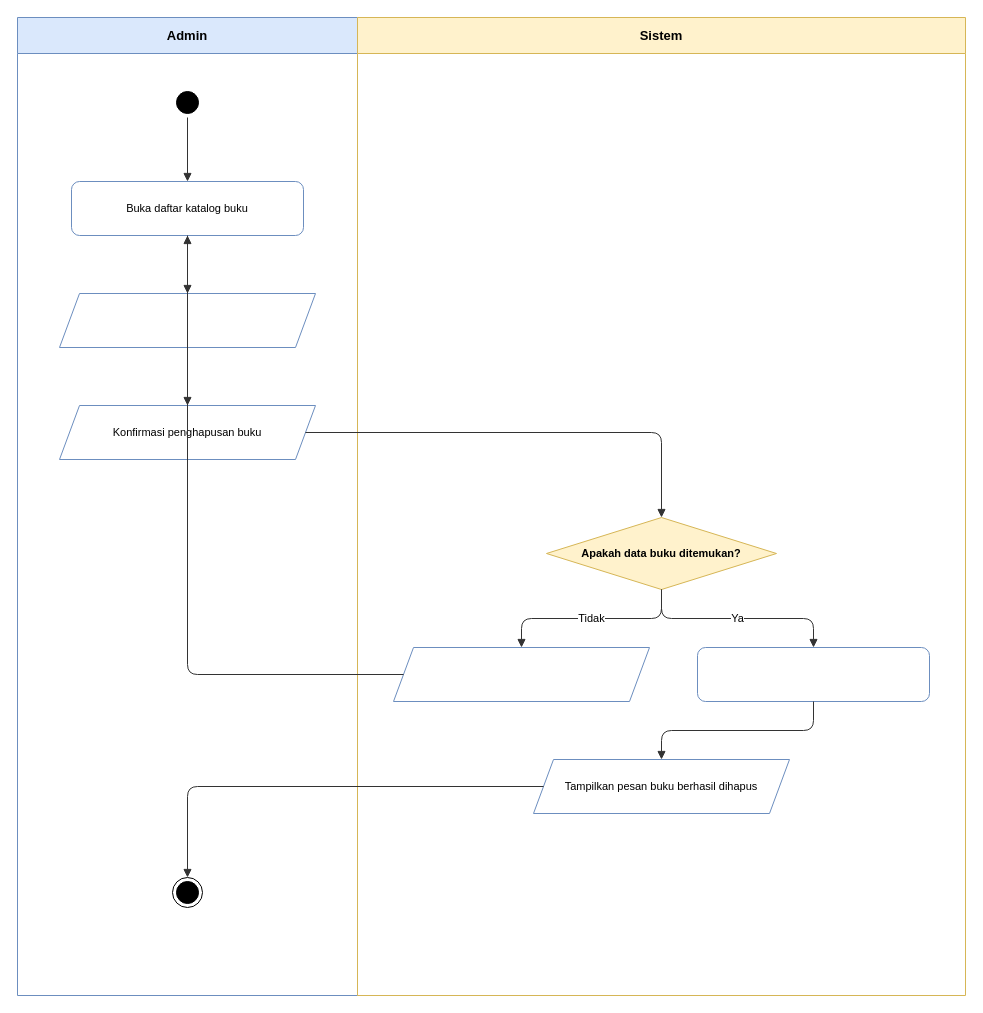
The diagram is 983 pixels wide and 1013 high, and some of its shapes have lost their labels. The shapes that lost their labels are listed below. From the top down, each one's box as (x1, y1, x2, y2) in pixels, then its label:
(58, 292, 316, 348): Pilih buku yang ingin dihapus
(392, 646, 650, 702): Tampilkan pesan buku tidak ditemukan
(696, 646, 930, 702): Hapus koleksi buku dari katalog
